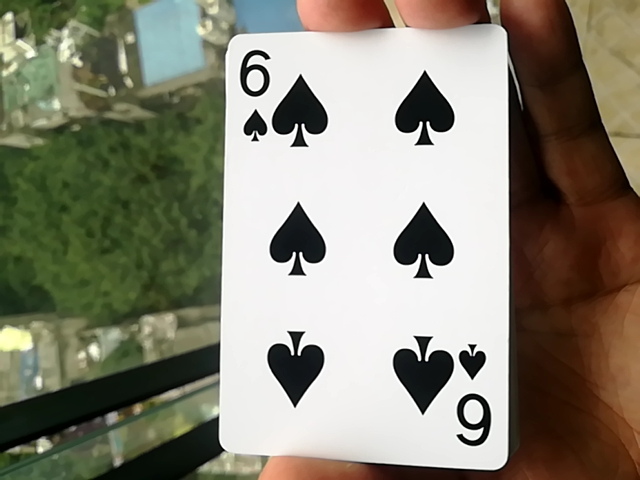ht 6: (210, 13, 507, 475)
